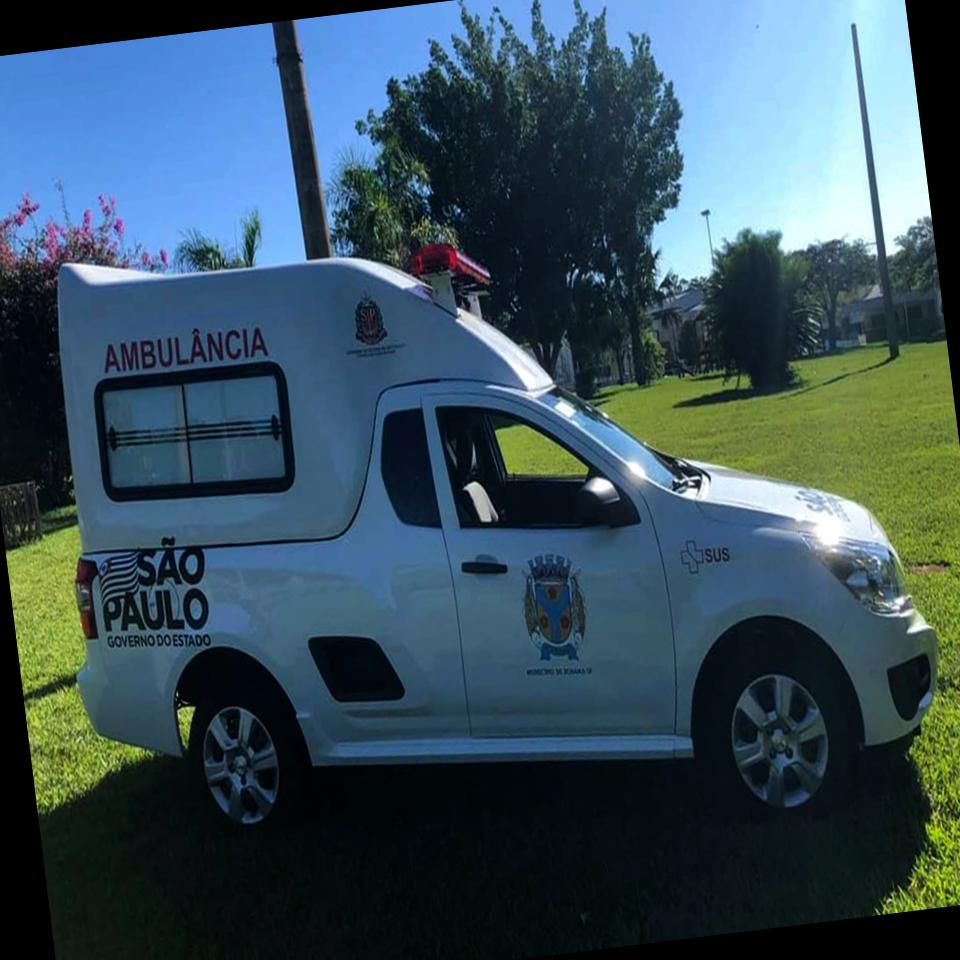bombeiro: (26, 162, 952, 904)
